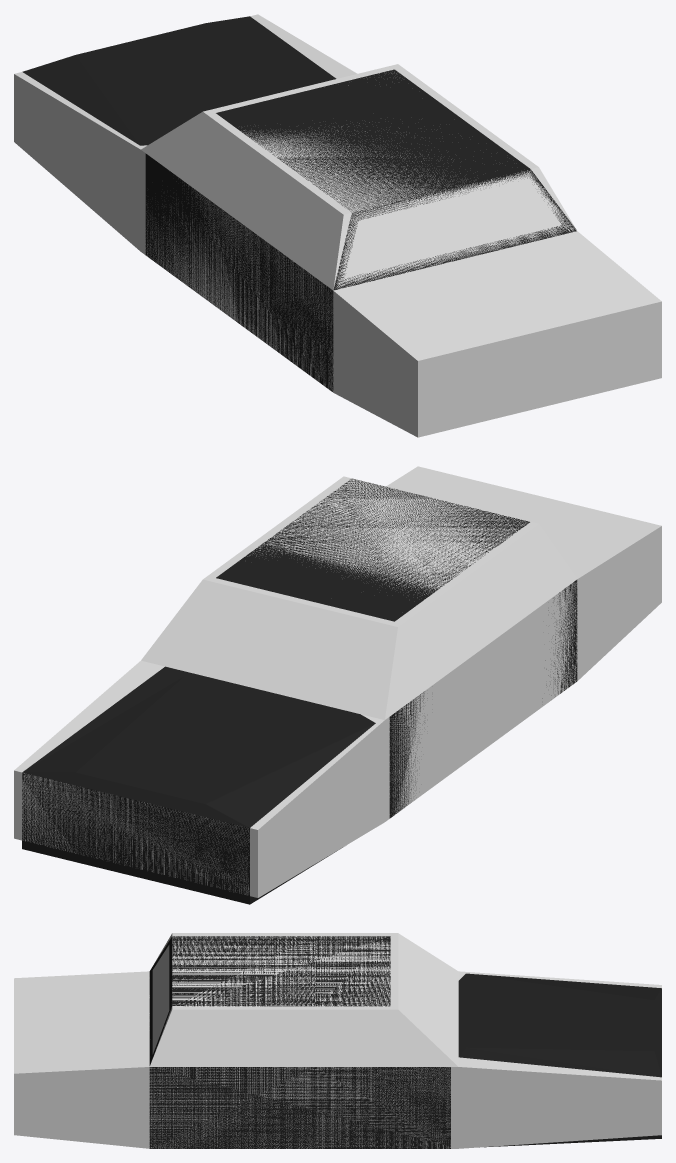
The model's file is towncar.glb.
3 views of the same model, one above another, from view 1: azimuth 30°, elevation 25°; view 2: azimuth 150°, elevation 25°; view 3: azimuth 270°, elevation 25° (orthographic). The views are drawn at different scales.
Parts seen in each view (by area): view 1: COL_hull, vehicles/towncar; view 2: COL_hull, vehicles/towncar; view 3: COL_hull, vehicles/towncar, window.04.
Boxes of the visible parts, bbox=[...] form: COL_hull: bbox=[14, 14, 661, 437]; vehicles/towncar: bbox=[22, 16, 576, 391]; COL_hull: bbox=[14, 466, 661, 897]; vehicles/towncar: bbox=[22, 478, 577, 904]; COL_hull: bbox=[14, 933, 661, 1148]; vehicles/towncar: bbox=[149, 936, 661, 1148]; window.04: bbox=[152, 945, 169, 1054].
Size of the model in its own units: 1.88 by 1.19 by 5.38.
Materials: 2 (2 with a texture image).
